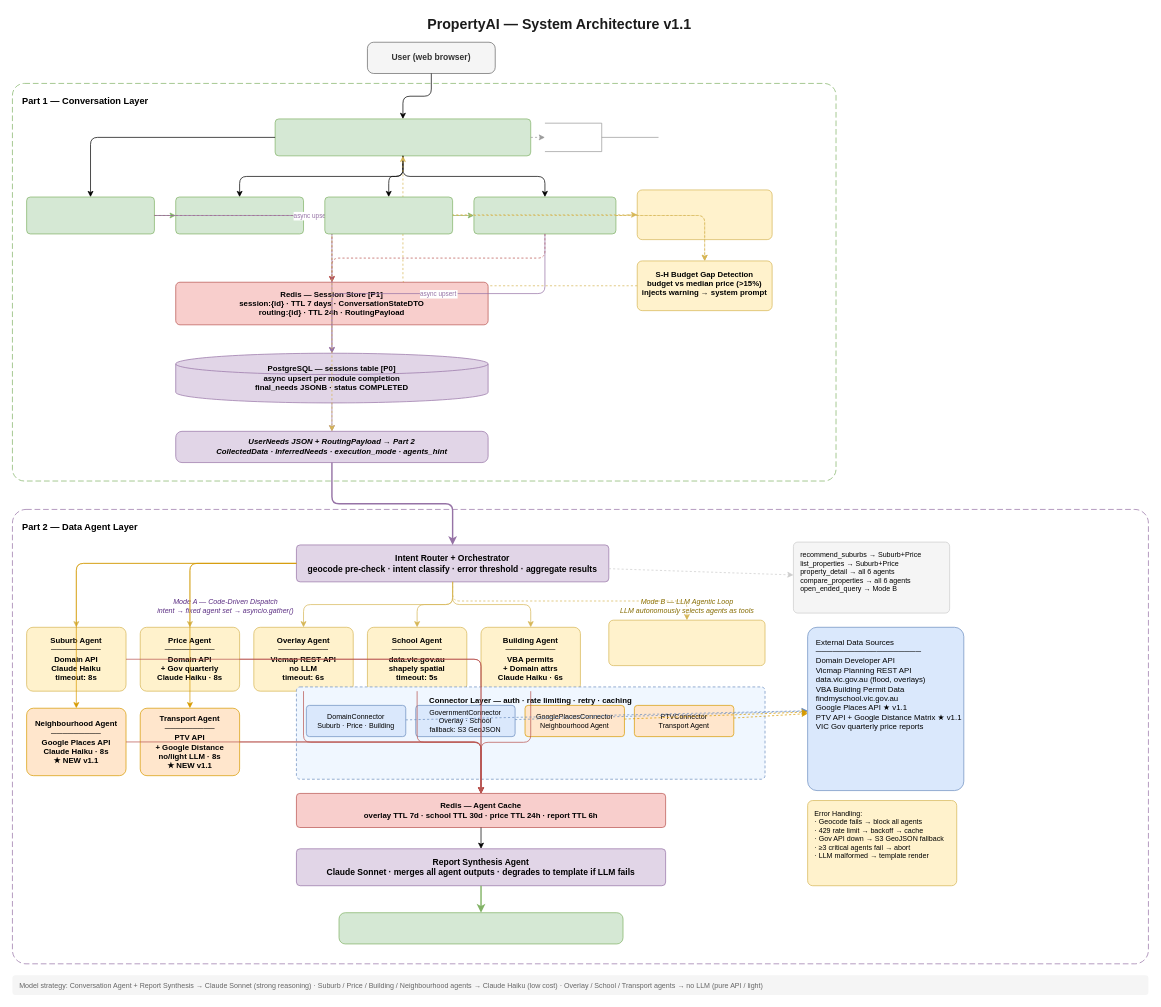
This 1161x1007 diagram has some shape labels left out. Each missing label, with the centre of its shape:
"Conversation Agent Claude Sonnet · tool use · 6 guardrail rules" belongs at (x=402, y=137).
"LLM Agentic Loop Claude Sonnet · all 7 agents as tools open-ended queries" belongs at (x=686, y=642).
"M1 — Property Needs type · beds · baths · land · use" belongs at (x=90, y=215).
"M2 — Lifestyle household · school · pets · WFH" belongs at (x=239, y=215).
"M3 — Suburb Preference commute · vibe · zones" belongs at (x=388, y=215).
"M4 — Budget (collected last) range · deposit · salary · FHB" belongs at (x=544, y=215).
"Property Report — web display · exportable PDF" belongs at (x=480, y=928).
"S-G Borrowing Capacity salary → estimated capacity DTI 28% · disclaimer required" belongs at (x=704, y=214).
"tool_use block extract_requirements" belongs at (x=601, y=137).
